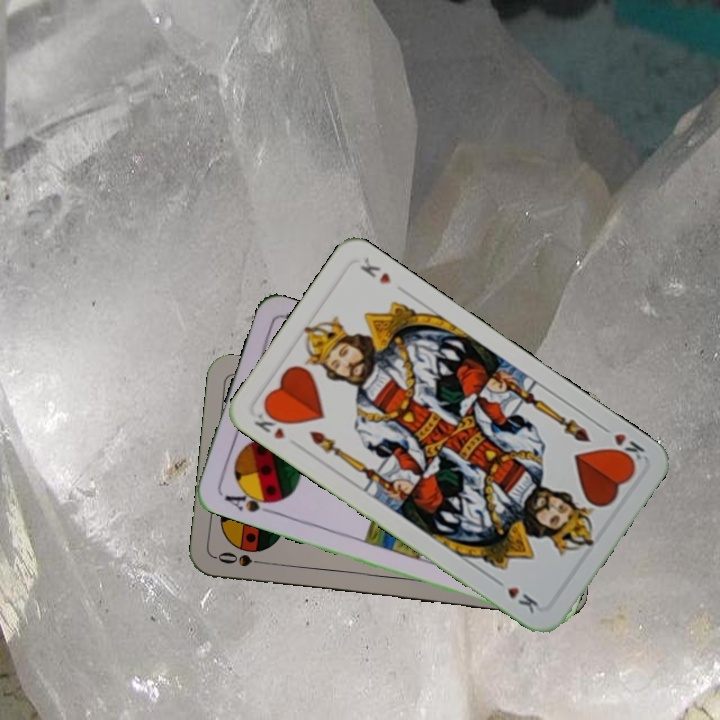HK: (606, 429, 647, 468), (250, 405, 290, 442)
SA: (220, 484, 279, 517)
SO: (213, 547, 272, 570)
